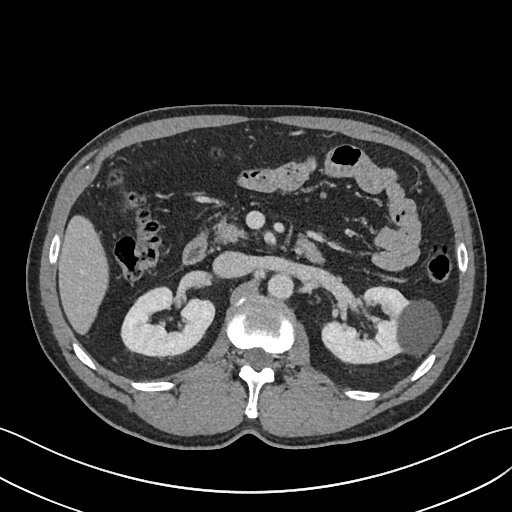Lesion: (394, 297, 446, 358)
